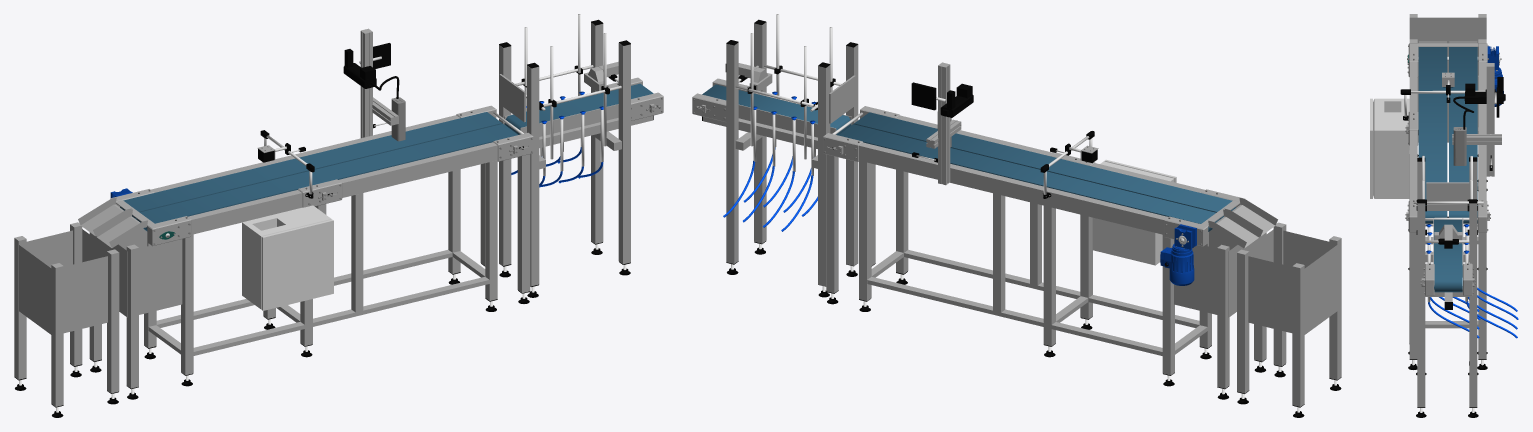
Rendered from we piezo inkjet sheet feeder.glb.
3 views of the same model, side by side, from view 1: azimuth 30°, elevation 25°; view 2: azimuth 150°, elevation 25°; view 3: azimuth 270°, elevation 25° (orthographic). The views are drawn at different scales.
Parts seen in each view (by area): view 1: cable.011; view 2: cable.011; view 3: cable.011.
Boxes of the visible parts, x1,y1,x2,y2 form: cable.011: [14, 14, 663, 417]; cable.011: [692, 14, 1341, 417]; cable.011: [1370, 14, 1518, 417].
Bounding box in the file's own units: 3.88 × 1.61 × 0.8665.
